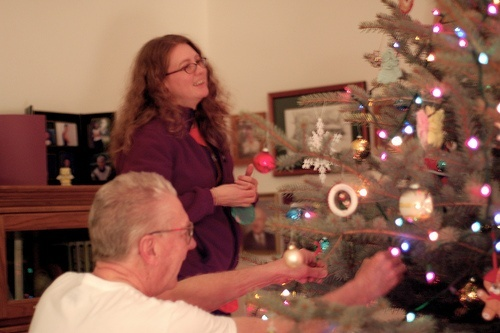head: (82, 166, 203, 303), (151, 25, 214, 111)
person: (33, 167, 352, 331), (116, 29, 257, 279)
